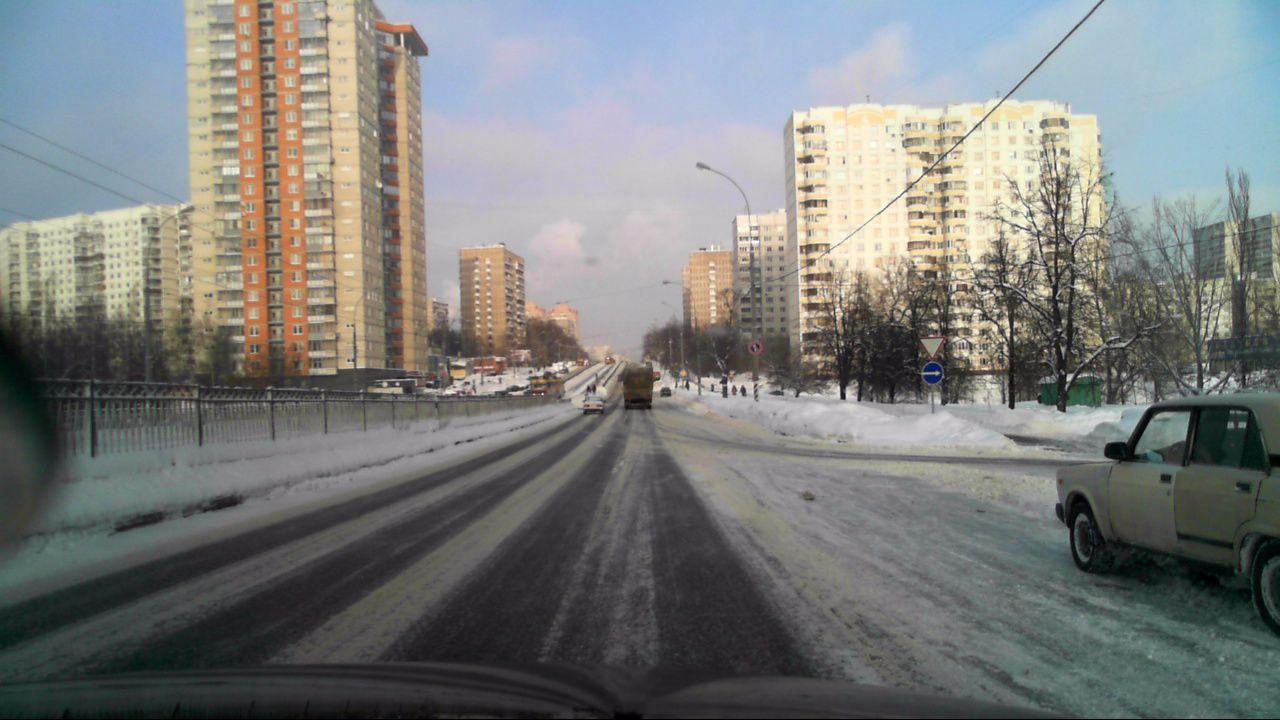2_4: (919, 334, 945, 357)
3_29: (748, 340, 763, 356)
4_2_1: (919, 361, 944, 386)
